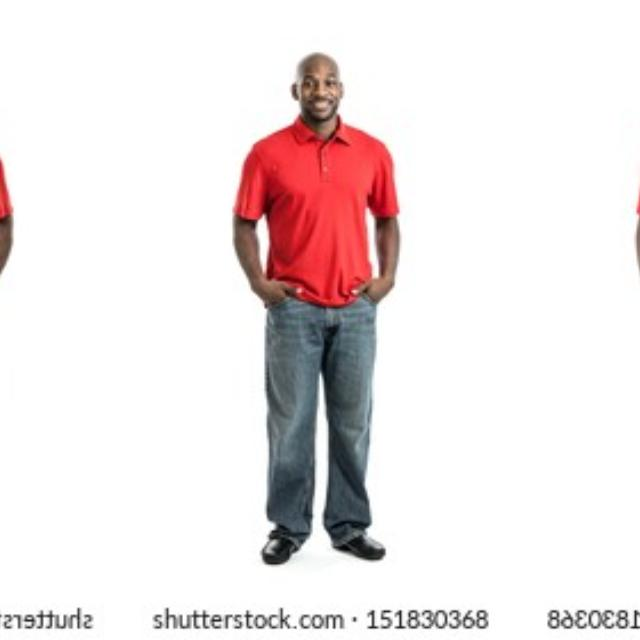person: (190, 44, 436, 440), (0, 44, 54, 440), (599, 44, 640, 440)
